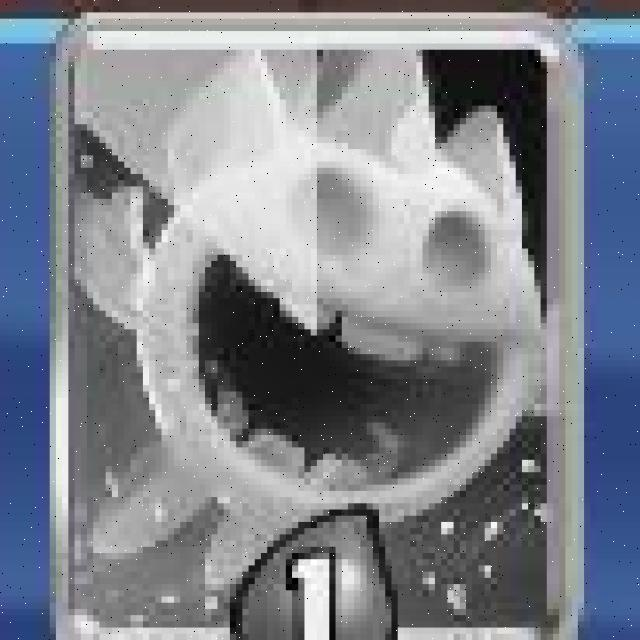Ice_Spirit: (48, 9, 581, 632)
